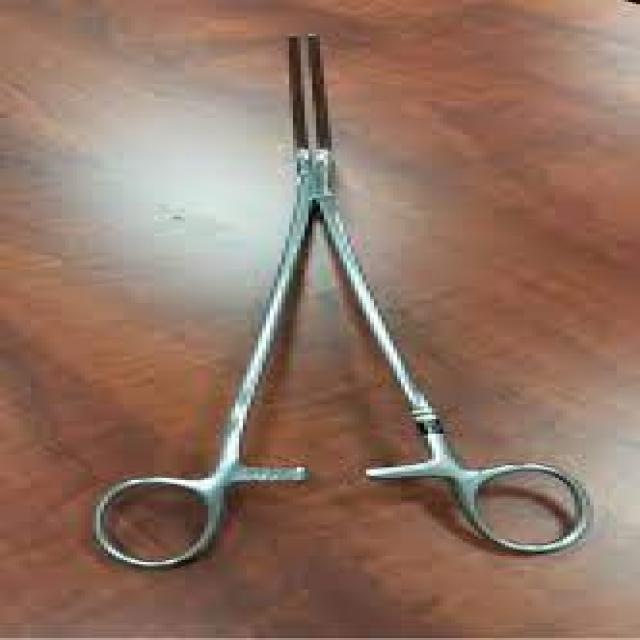Right Angle Colon Clamp: (63, 29, 598, 566)
